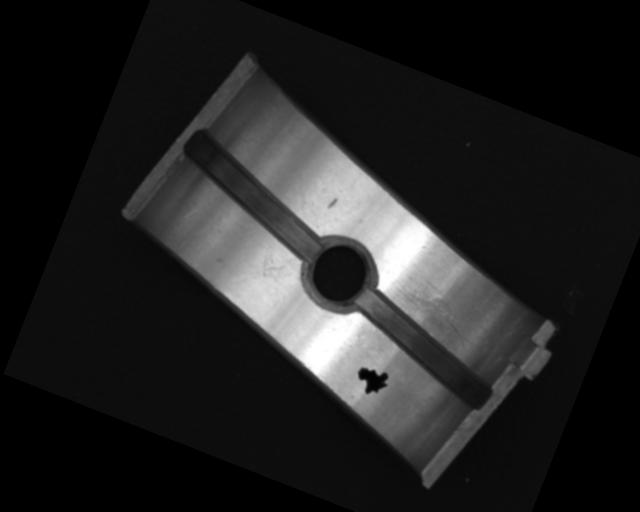blot: (350, 362, 393, 401)
bruise: (327, 195, 339, 212)
gap: (164, 128, 344, 263), (334, 287, 510, 413)
hole: (295, 232, 381, 321)
scratch: (380, 277, 489, 359)
